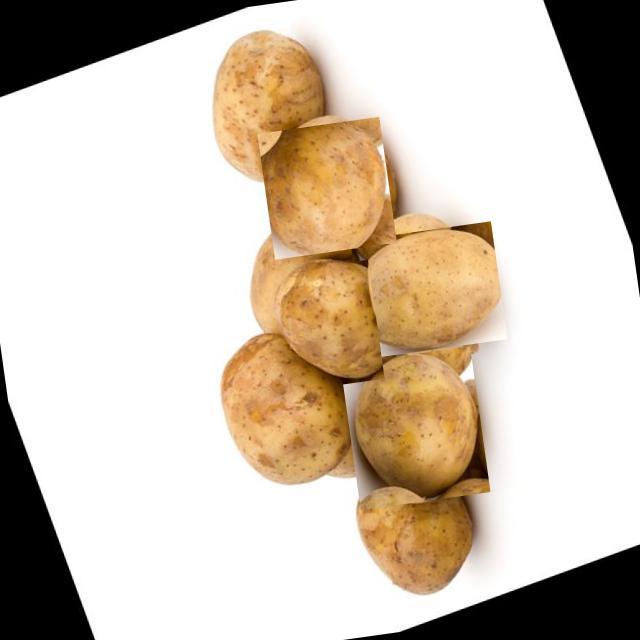potato: (341, 345, 492, 510), (355, 215, 503, 364), (258, 116, 398, 260), (272, 260, 384, 392)
